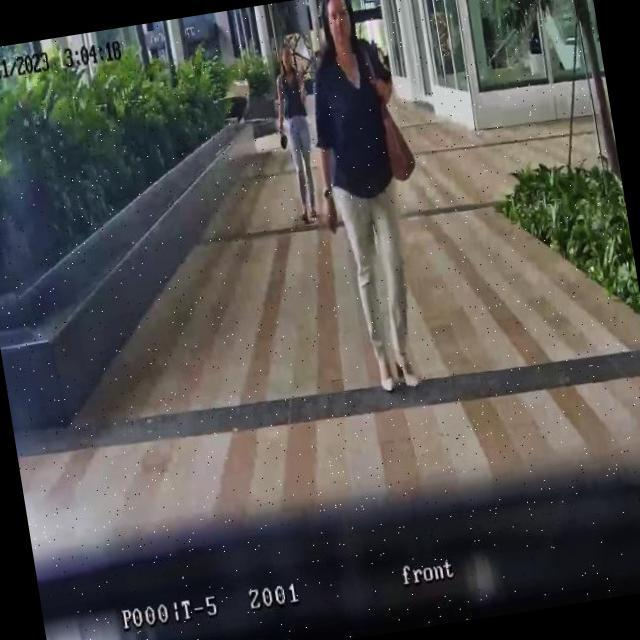person: (294, 0, 443, 400), (264, 41, 328, 228)
